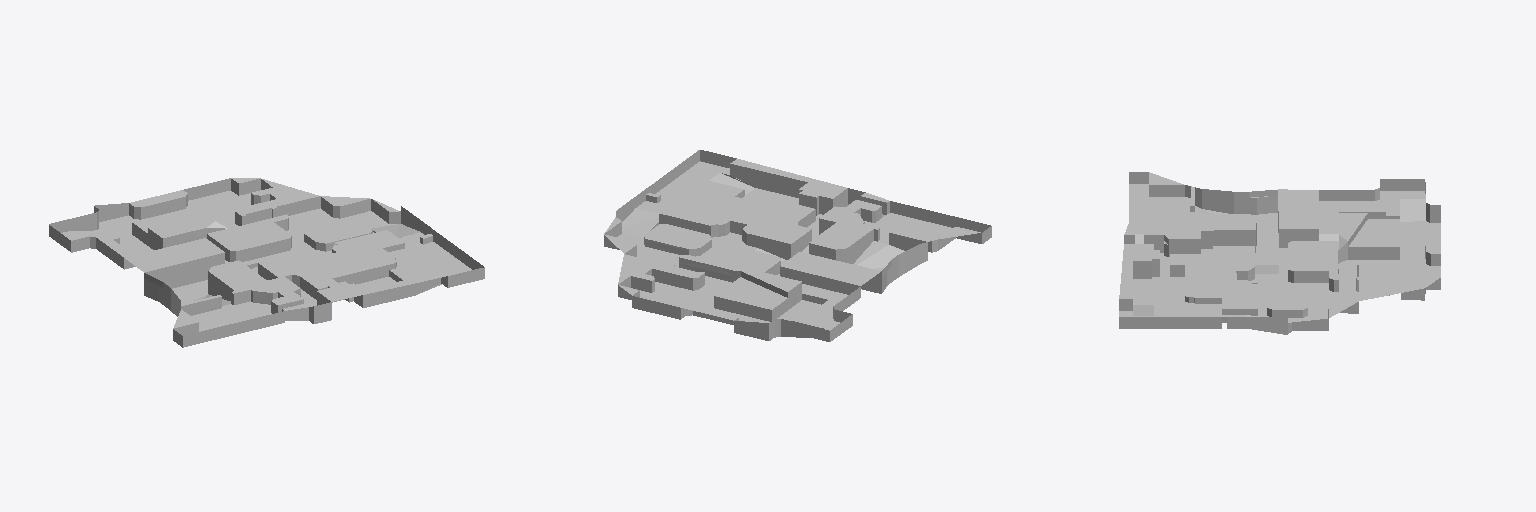
File: map.obj
3 views of the same model, side by side, from view 1: azimuth 30°, elevation 25°; view 2: azimuth 150°, elevation 25°; view 3: azimuth 270°, elevation 25° (orthographic).
Parts seen in each view (by area): view 1: Cube; view 2: Cube; view 3: Cube.
Part boxes in pixels (left/top/right/bottom): Cube: left=49, top=178, right=484, bottom=347; Cube: left=604, top=150, right=991, bottom=341; Cube: left=1119, top=172, right=1440, bottom=334.
Size of the model in its own units: 24.83 by 1.84 by 23.29.